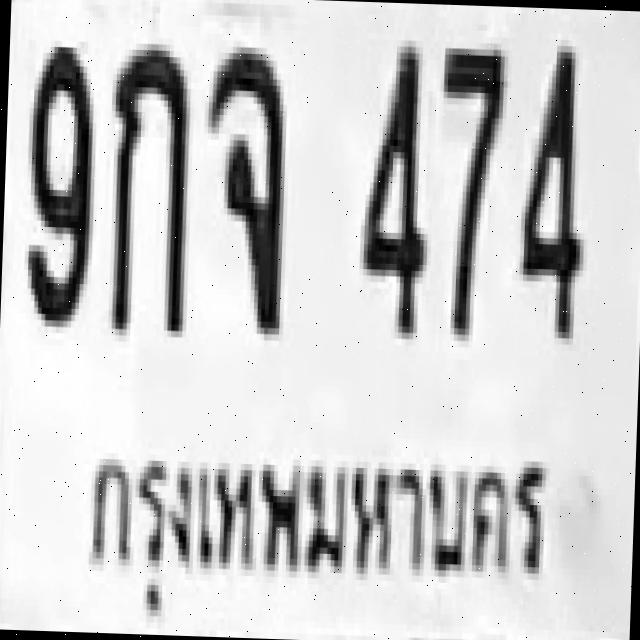10GorGai: (104, 36, 192, 331)
17ChorChan: (198, 39, 286, 328)
4: (511, 38, 588, 338), (355, 39, 432, 333)
7: (431, 38, 505, 339), (432, 42, 505, 310)
9: (20, 39, 93, 321)
Bangkok: (71, 422, 559, 638)
